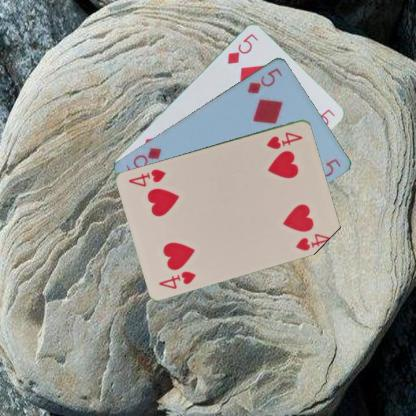4h: (156, 268, 198, 290), (263, 129, 304, 150)
5d: (244, 65, 284, 95), (225, 31, 260, 65)
